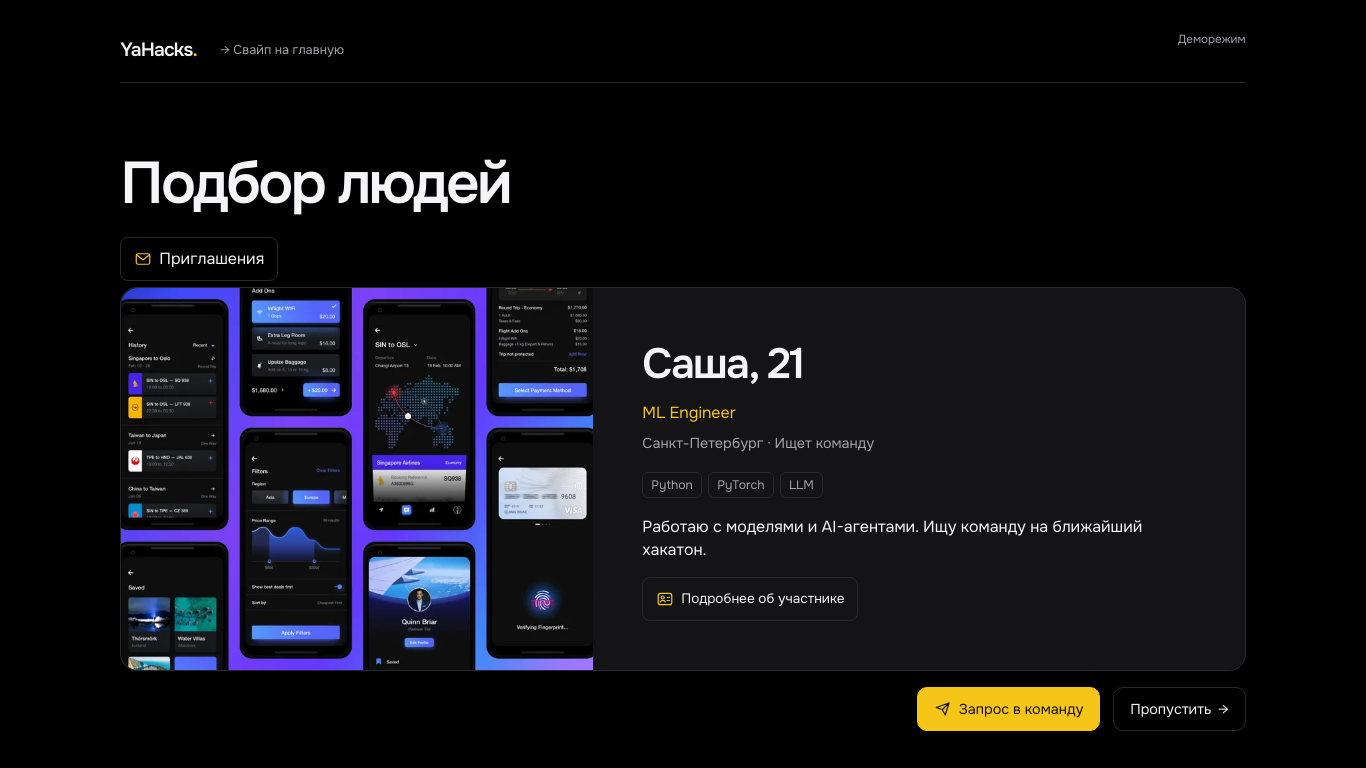
Test: YaHacks MVP › keeps the participant and shows the error when a request fails
Step 1. Click the button "Запрос в команду" → (1008, 709), box [917,687,1100,731]
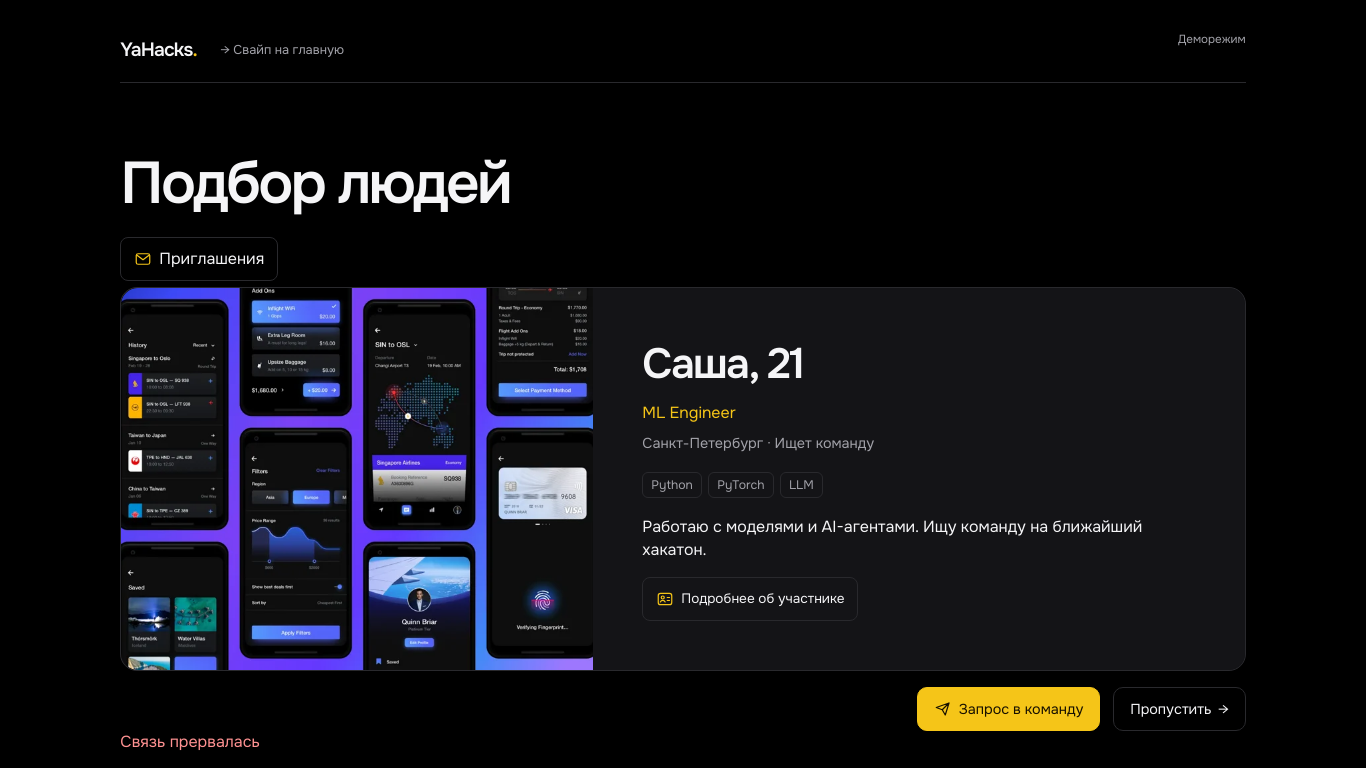
Expected: the heading "Саша, 21" is shown, [642,337,804,391]
Expected: the message reads "Связь прервалась", [120,731,260,752]
